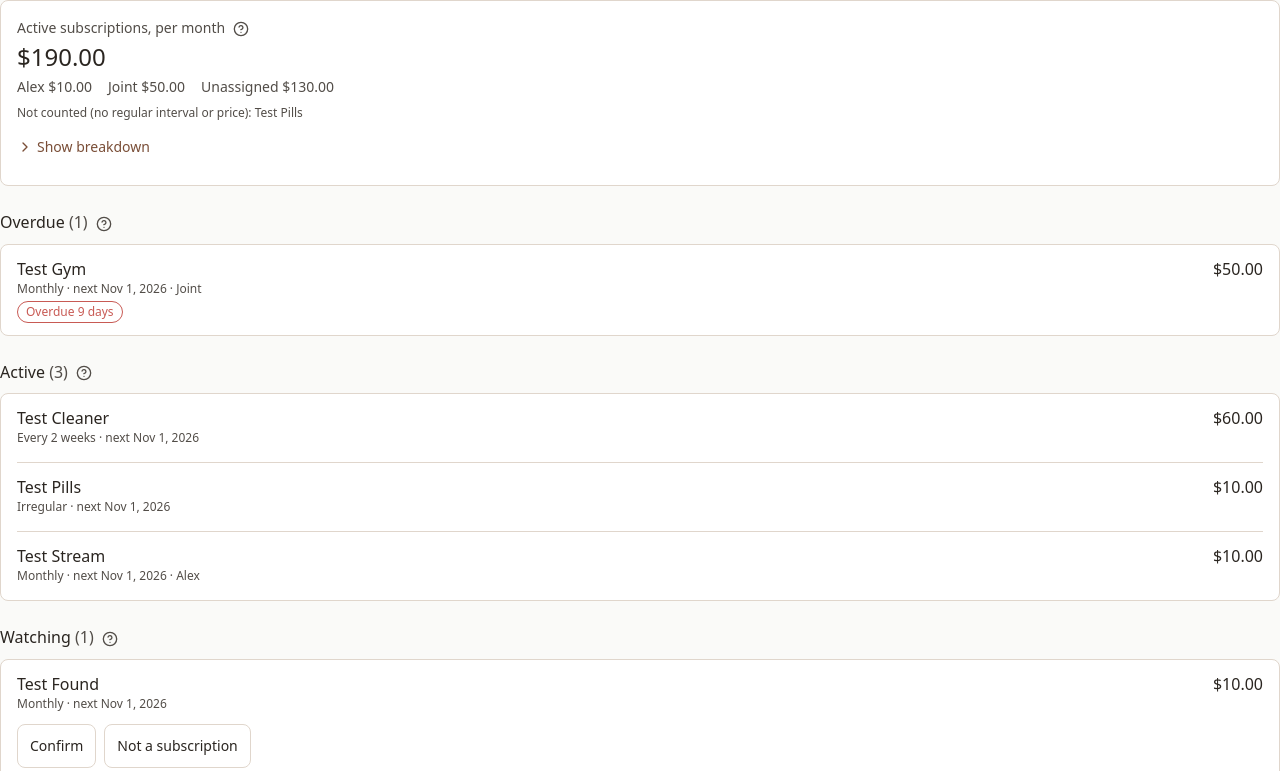
Scenario: shows a breakdown, high to low, that adds up to the total, with owner subtotals and the rows not counted
What coordinates should you click on to do the following:
click the button "Show breakdown"
I would click on:
 (84, 147)
Its box is 17,125 -> 150,169.
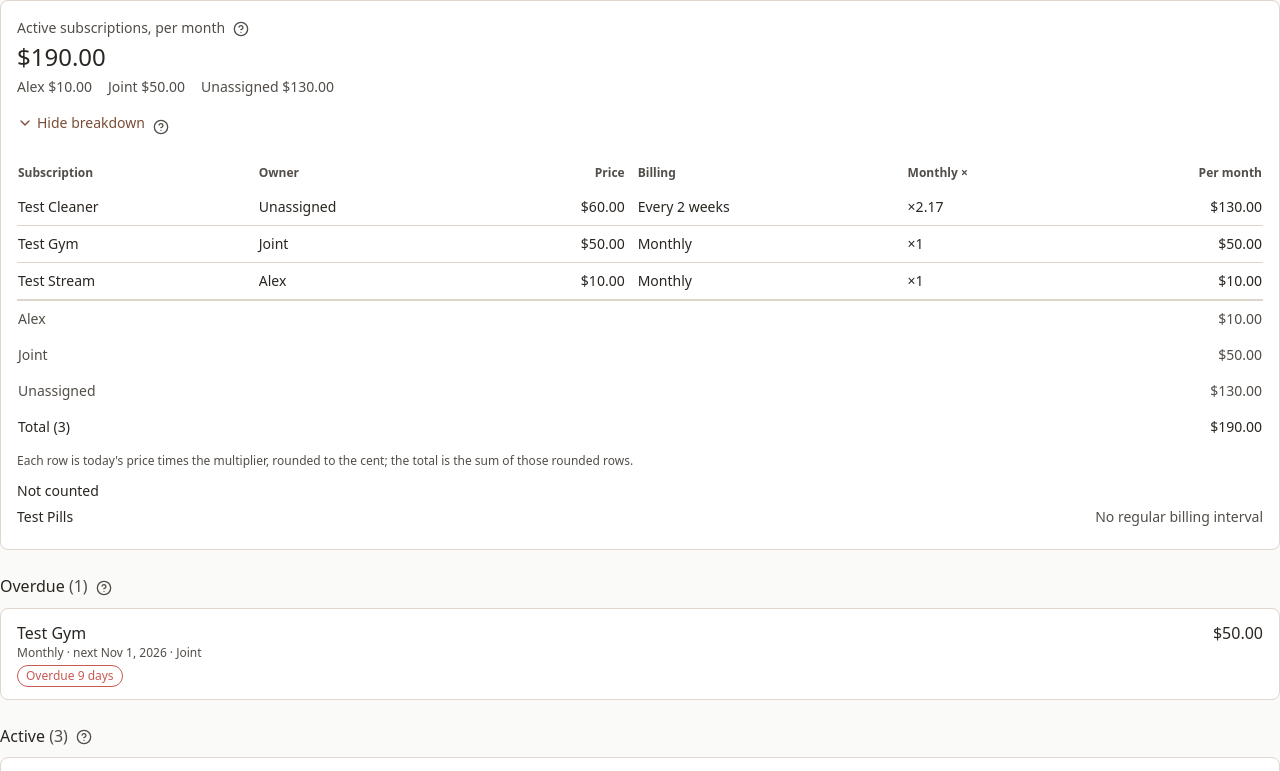
Expected: the row "Test Cleaner Unassigned $60.00 Every 2 weeks ×2.17 $130.00" is shown, 17,189 -> 1263,226
Expected: the row "Test Gym Joint $50.00 Monthly ×1 $50.00" is shown, 17,226 -> 1263,262
Expected: the row "Test Stream Alex $10.00 Monthly ×1 $10.00" is shown, 17,262 -> 1263,300
What coordinates should you click on to do the following:
click the button "Hide breakdown"
I would click on:
 (81, 123)
Its box is 17,101 -> 145,145.
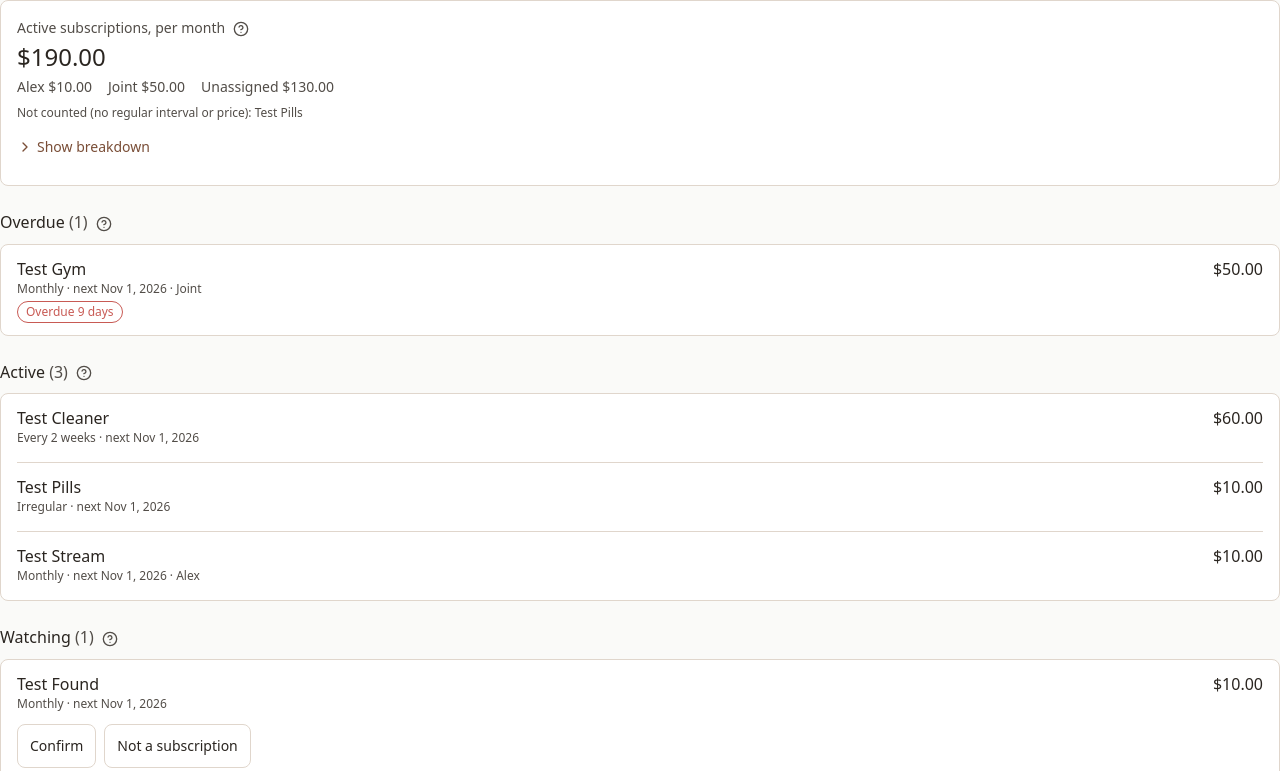
Expected: the table is gone
